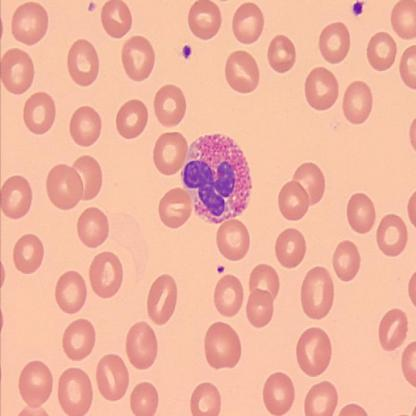Eosinophil: (181, 132, 253, 224)
